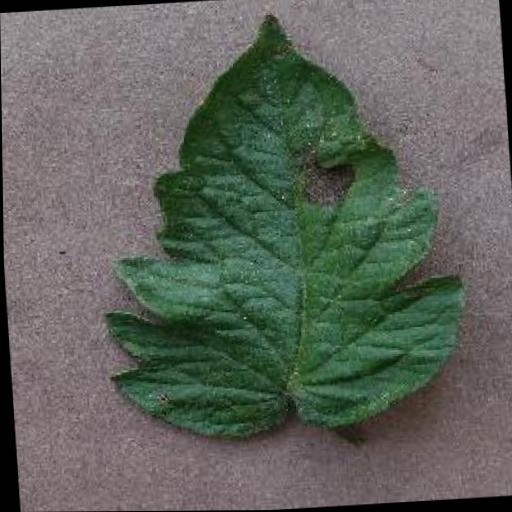Early Blight: (84, 0, 476, 450)
